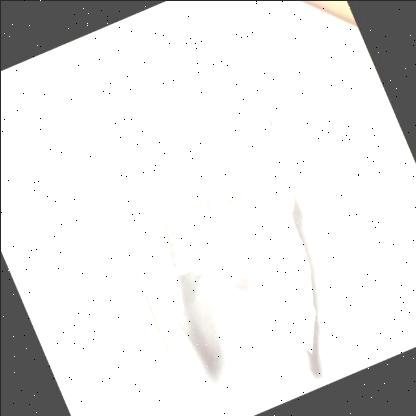Others: (111, 32, 317, 356)
